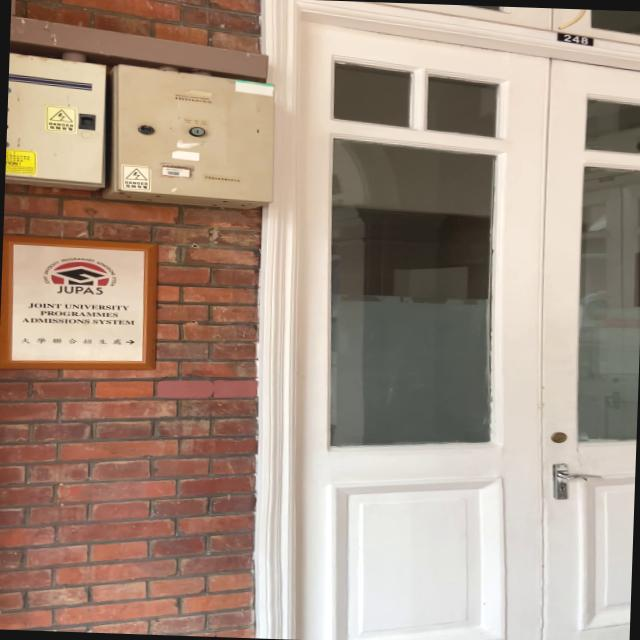room248: (549, 23, 603, 49)
